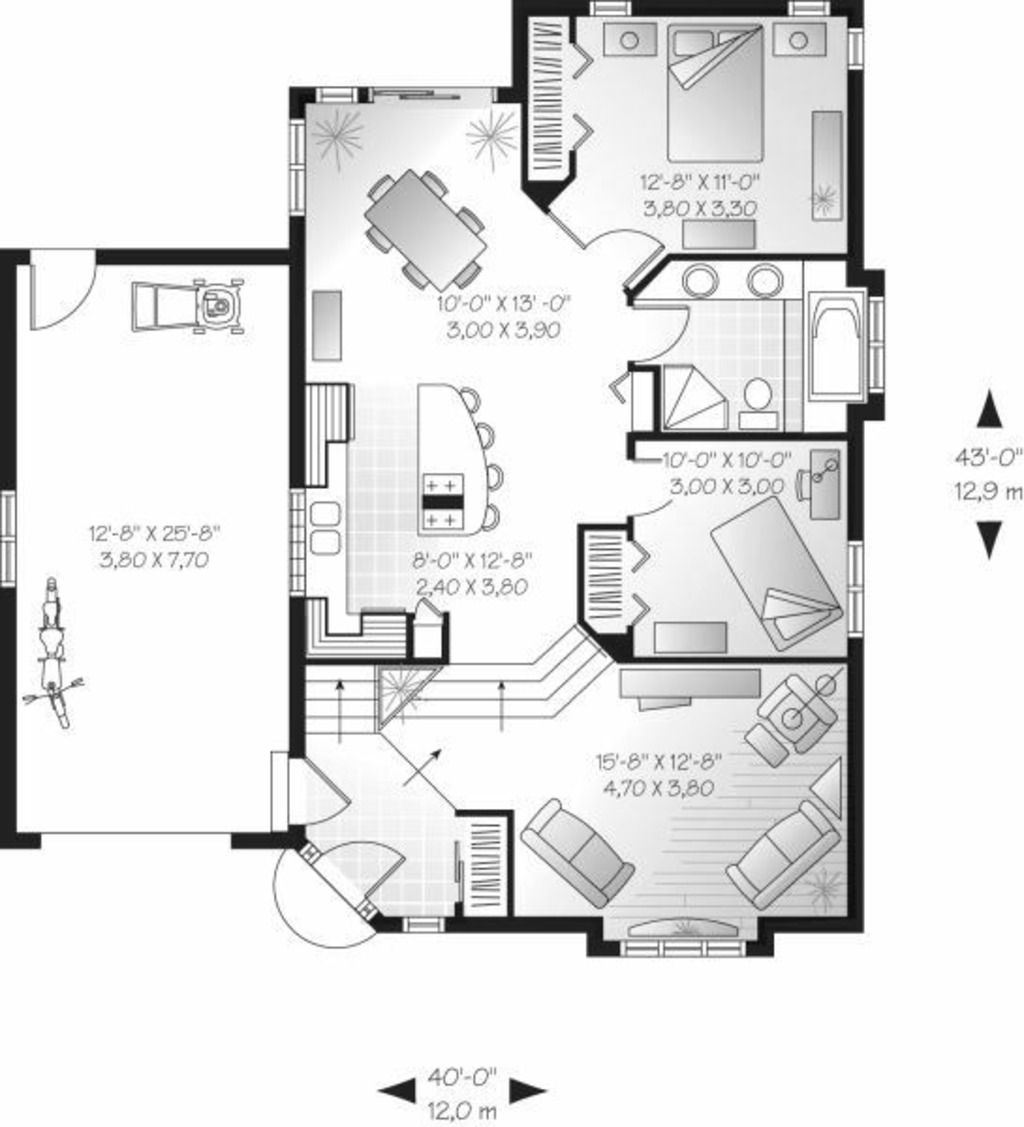bed: (720, 473, 850, 657), (653, 18, 785, 169)
dining_table: (351, 141, 502, 292)
door: (9, 231, 104, 353), (320, 820, 402, 931), (274, 743, 358, 841), (571, 215, 662, 292), (634, 294, 692, 364)
kitchen_bar: (397, 345, 514, 569)
large_sink: (734, 367, 783, 441)
large_sofa: (511, 781, 648, 915), (725, 801, 839, 908)
small_sink: (678, 245, 797, 310)
small_sofa: (750, 664, 846, 752)
stairs: (361, 622, 611, 731), (298, 659, 396, 743)
tub: (799, 255, 860, 415)
twin_sink: (307, 496, 369, 592)
window: (609, 932, 765, 966), (869, 285, 899, 417), (279, 115, 318, 213), (841, 536, 874, 645), (1, 481, 28, 604), (839, 22, 879, 80), (307, 81, 376, 106), (588, 4, 637, 22)
